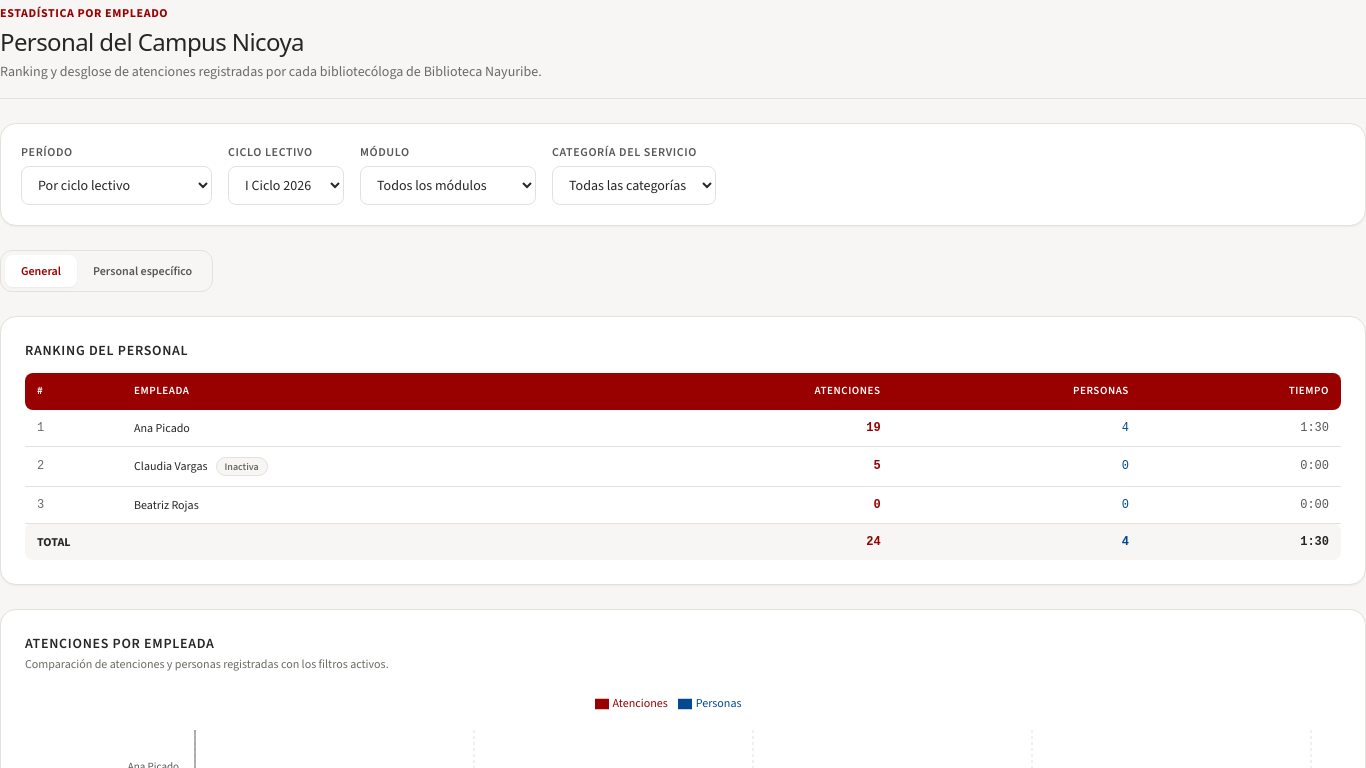
EstadisticasPersonalView (toggle, tarjetas, filtros y estados) › la selección persiste al volver a General y queda marcada en el ranking
Expected: the element with test id "panel-ranking" is shown, [0, 316, 1365, 585]
Click the button with test id "toggle-personal" at (143, 271), box [77, 255, 208, 287]
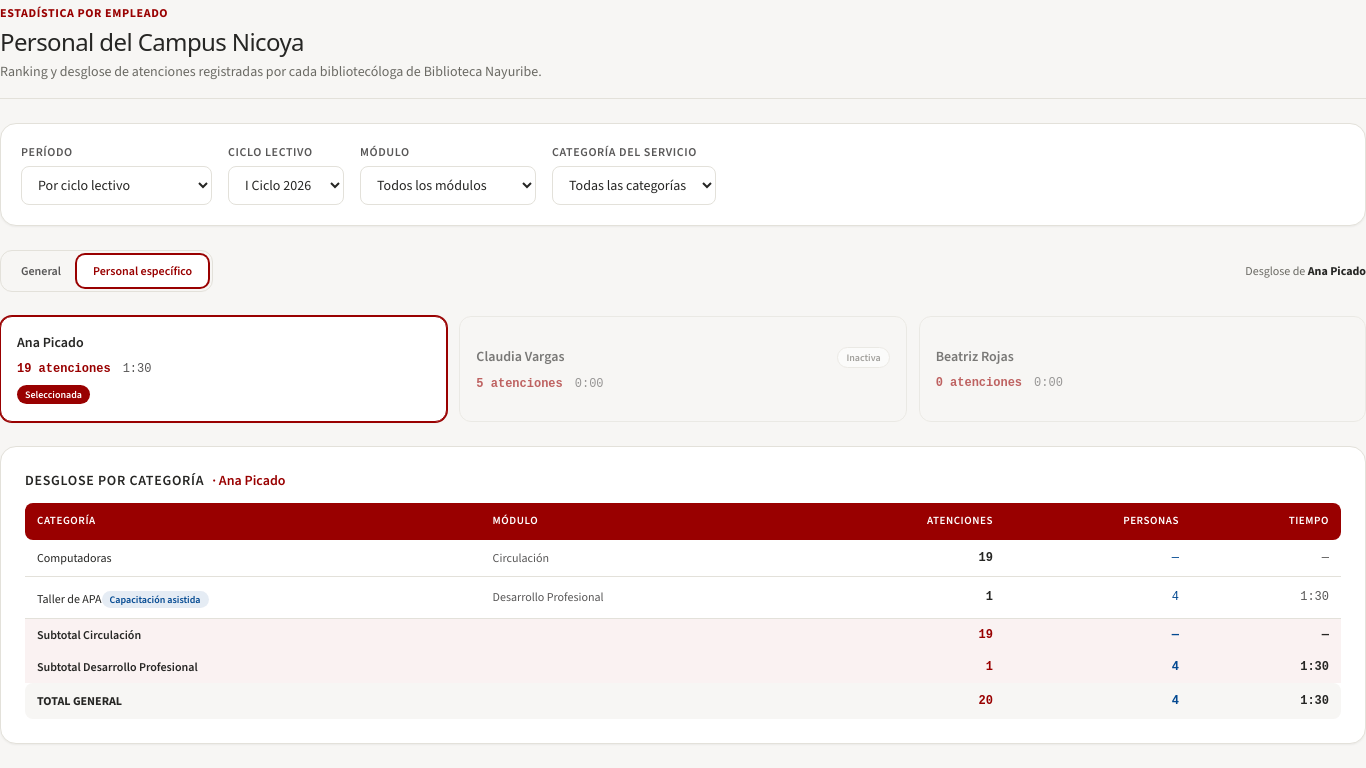
Click the button with test id "tarjeta-empleada" at (520, 356), box [459, 316, 907, 422]
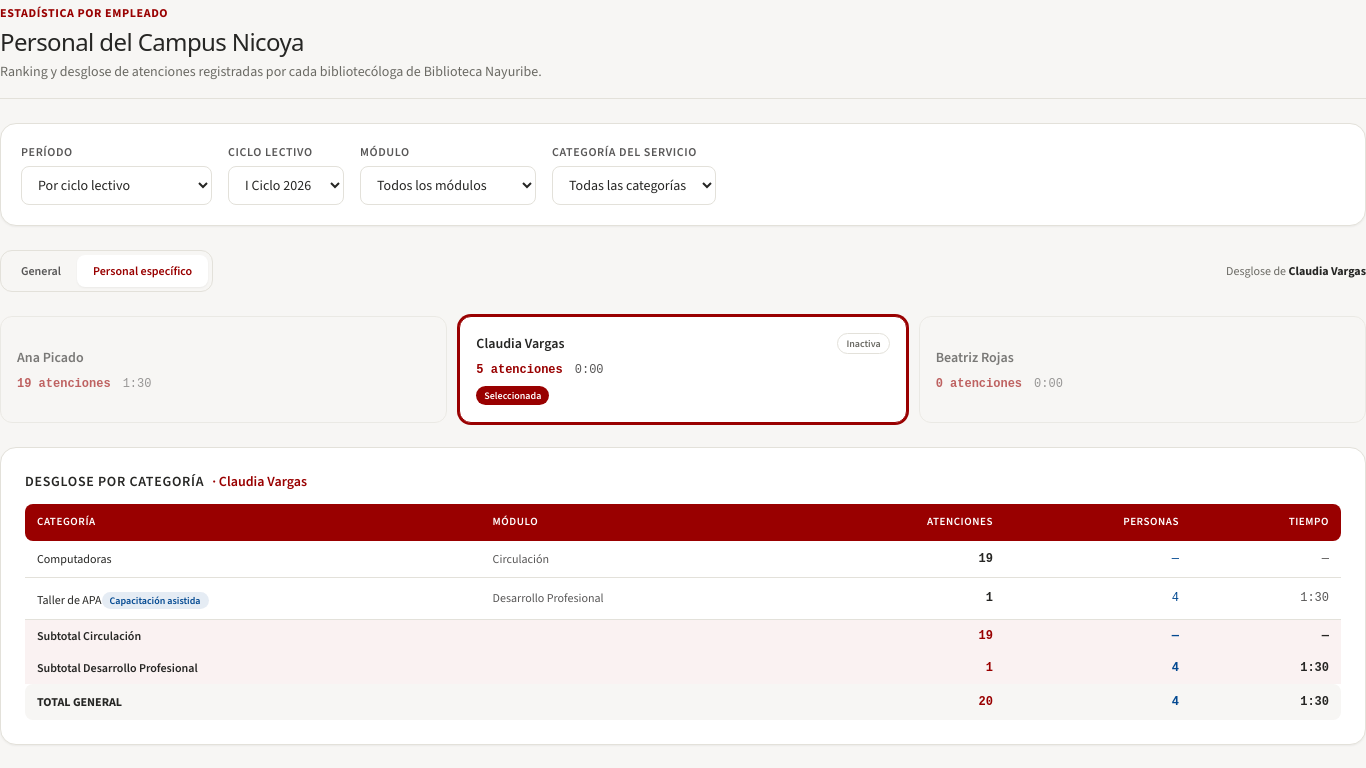
Click the button with test id "toggle-general" at (41, 271), box [5, 255, 77, 287]
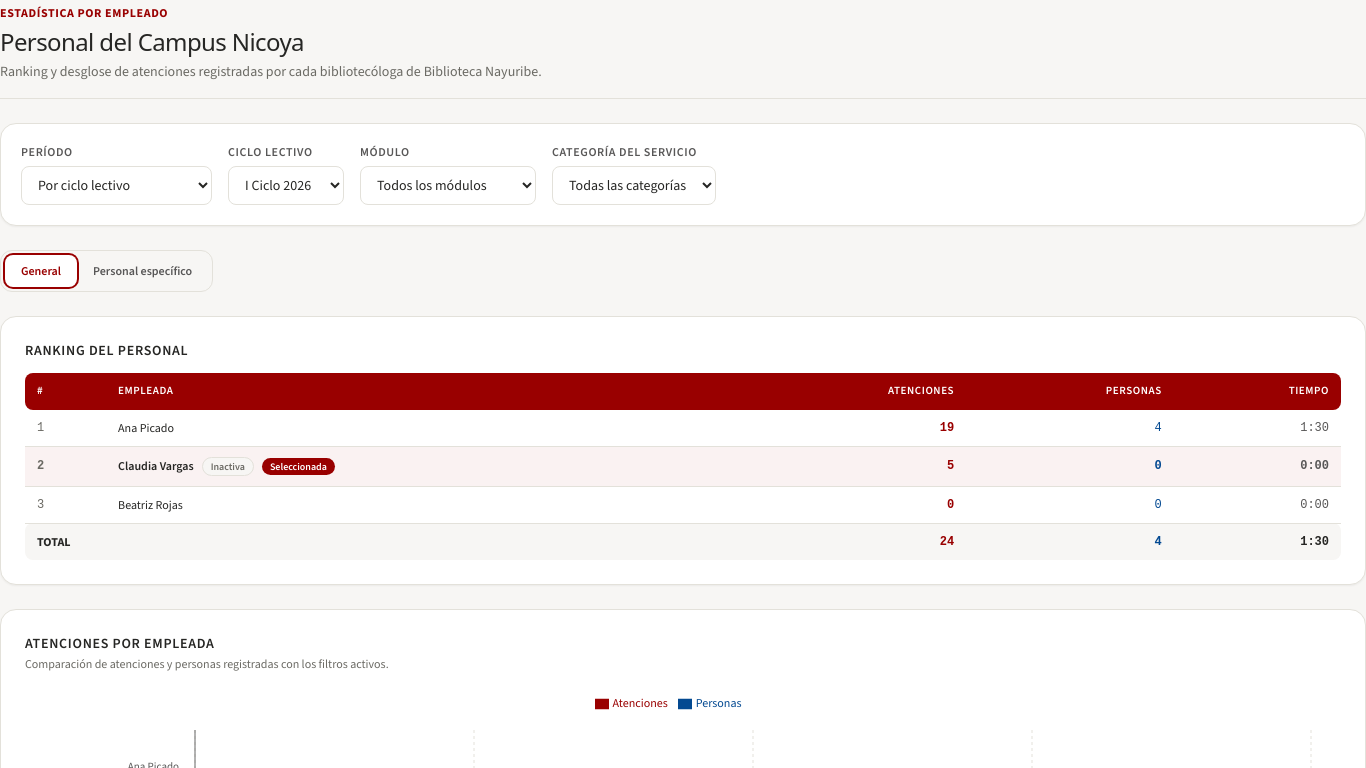
Result: the text "Claudia Vargas" is shown at [118, 458, 194, 474]
Result: the text "Seleccionada" is shown at [262, 458, 335, 475]
Al regresar, la misma empleada sigue seleccionada.
Click the button with test id "toggle-personal" at (143, 271), box [77, 255, 208, 287]
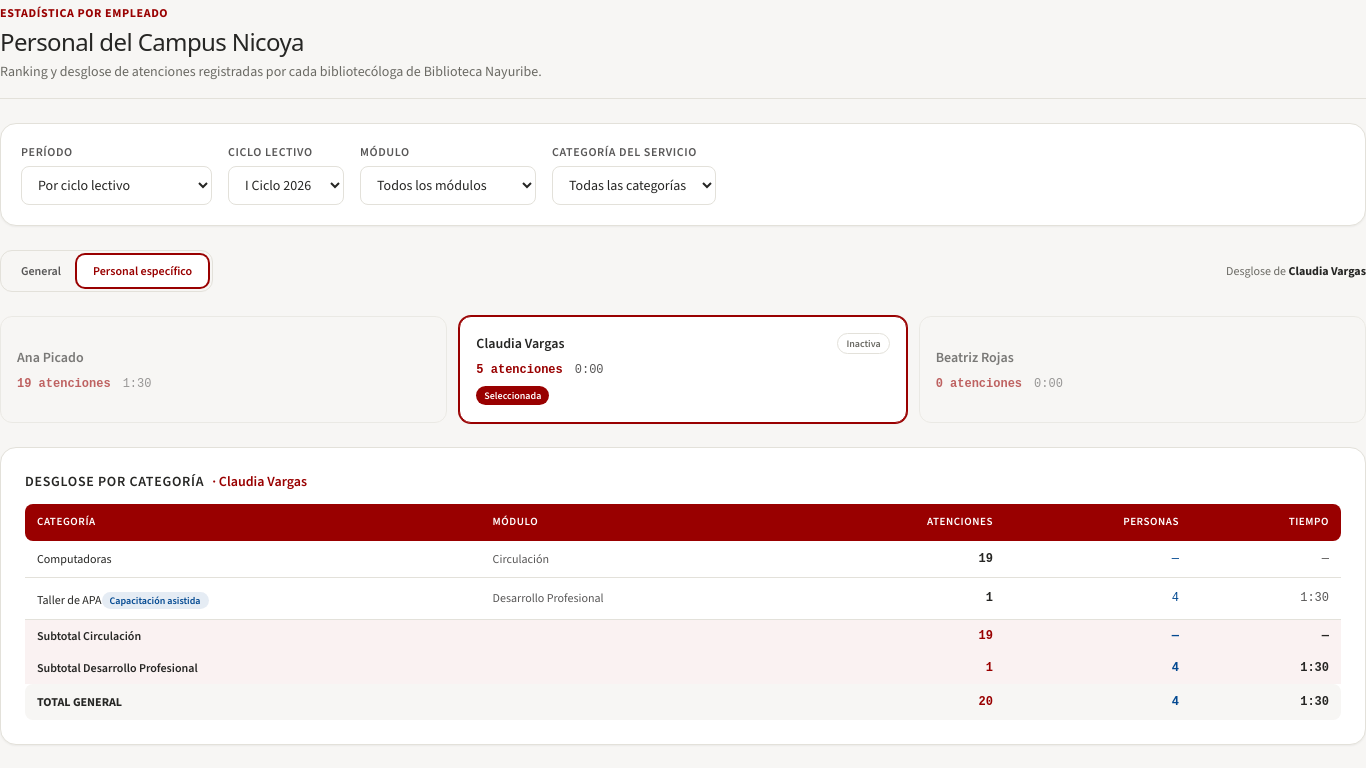
Result: the 2nd text "Claudia Vargas" is shown at [476, 334, 564, 354]
